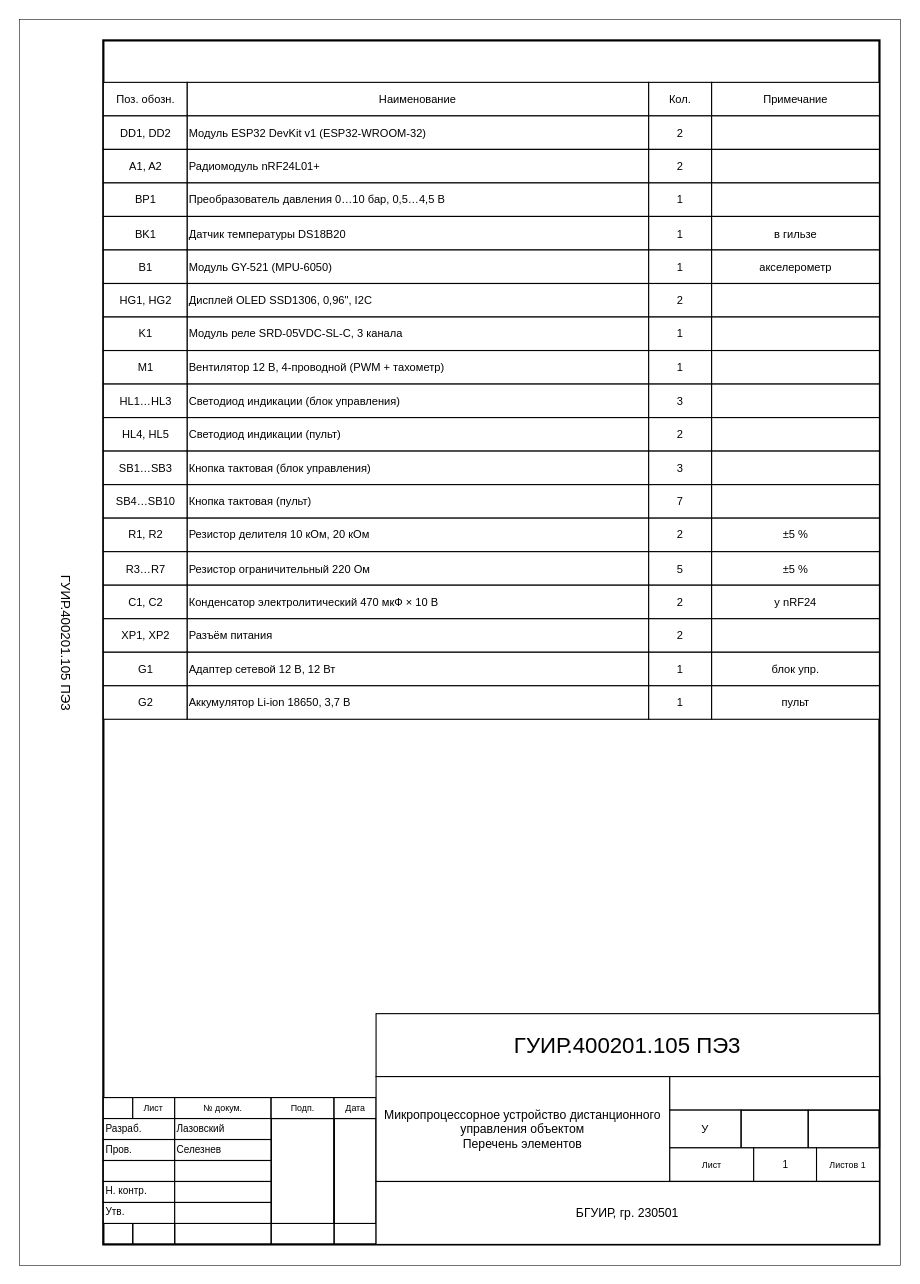
Image size: 920x1284. Some labels were removed from this diagram. Each missing label, with the centre of its shape:
"Изм" belongs at point 117,1107.
"Лит. Масса Масштаб" belongs at point 774,1092.
